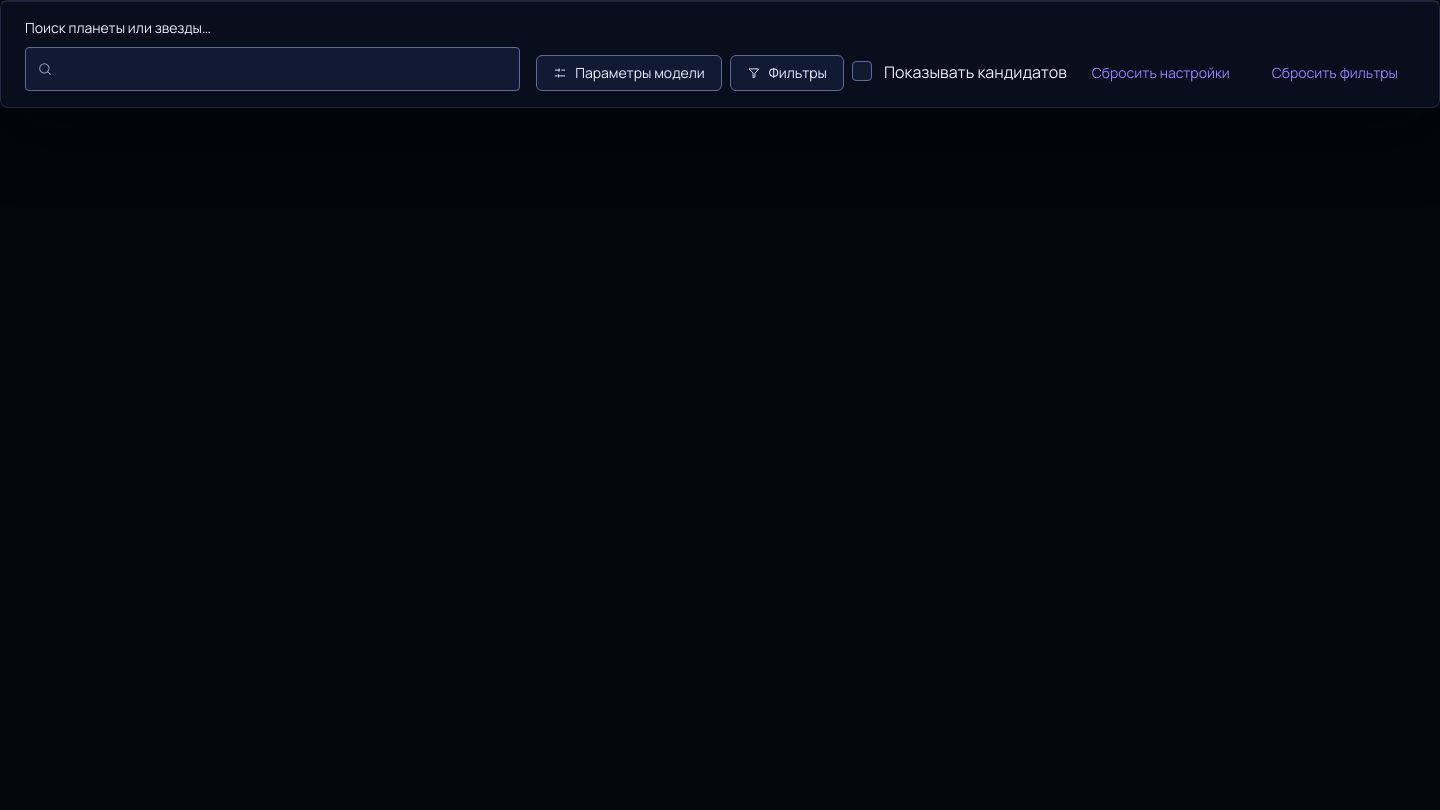
Test: «Земля (эталон)» › при оптимистичных границах показывает 0.74 без пояснения
Click the button "Фильтры" at (787, 73), box [730,55,844,91]
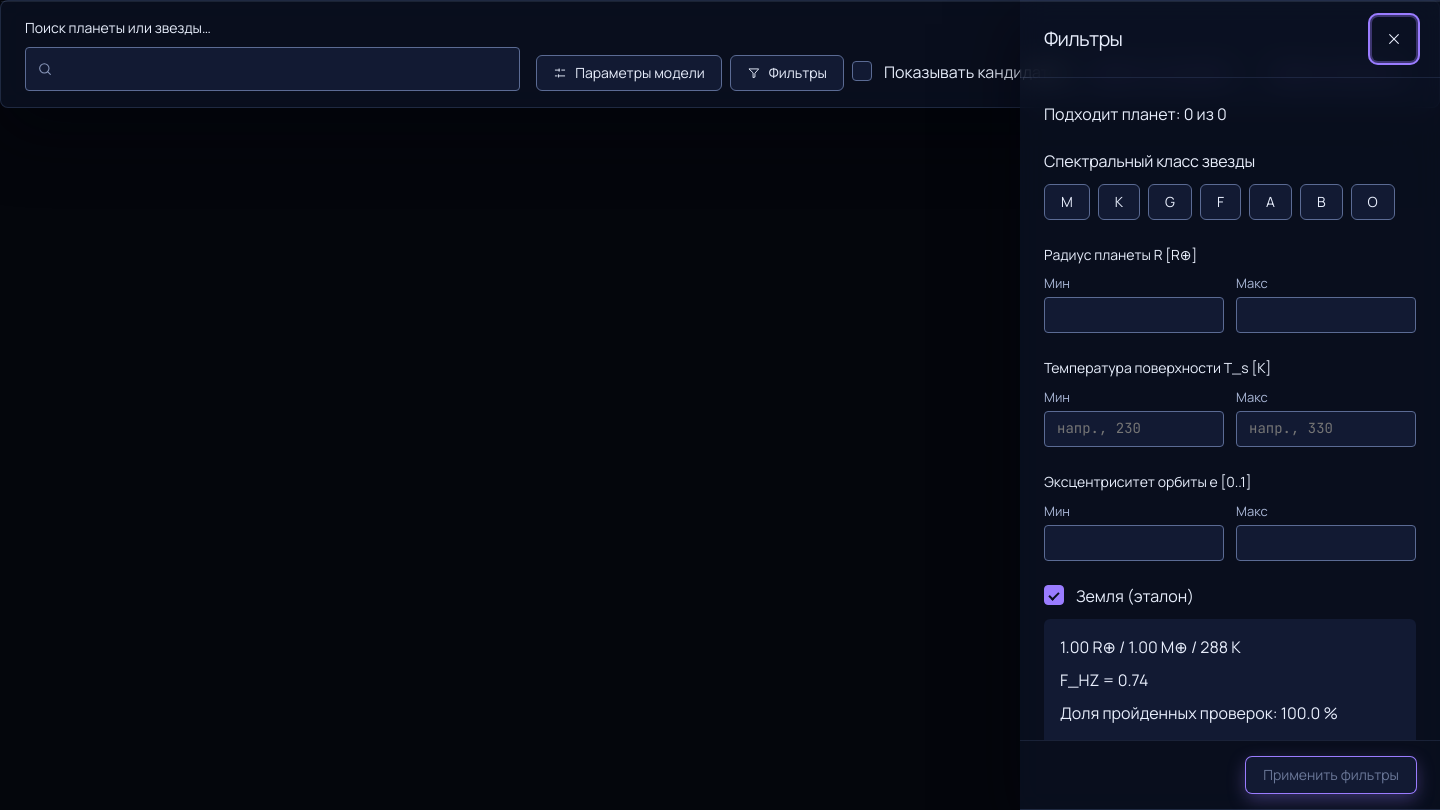
Check: the text "F_HZ = 0.74" is shown, box [1060,669,1148,691]
